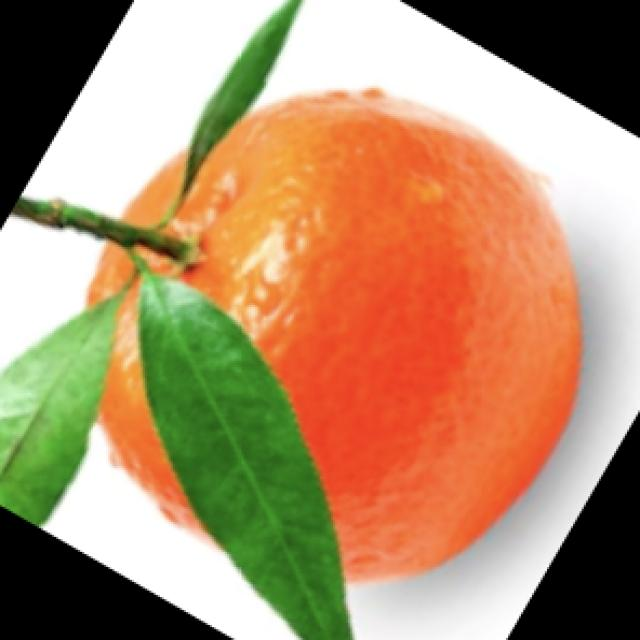matang: (97, 100, 571, 578)
